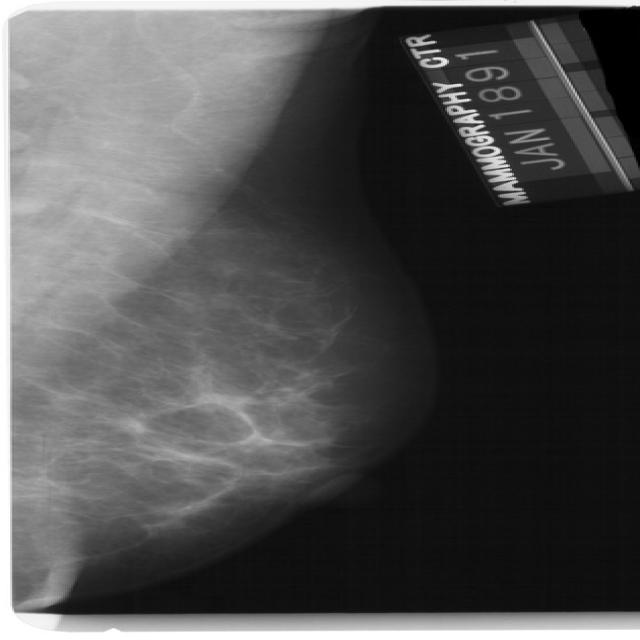tumour: (110, 416, 142, 434)
